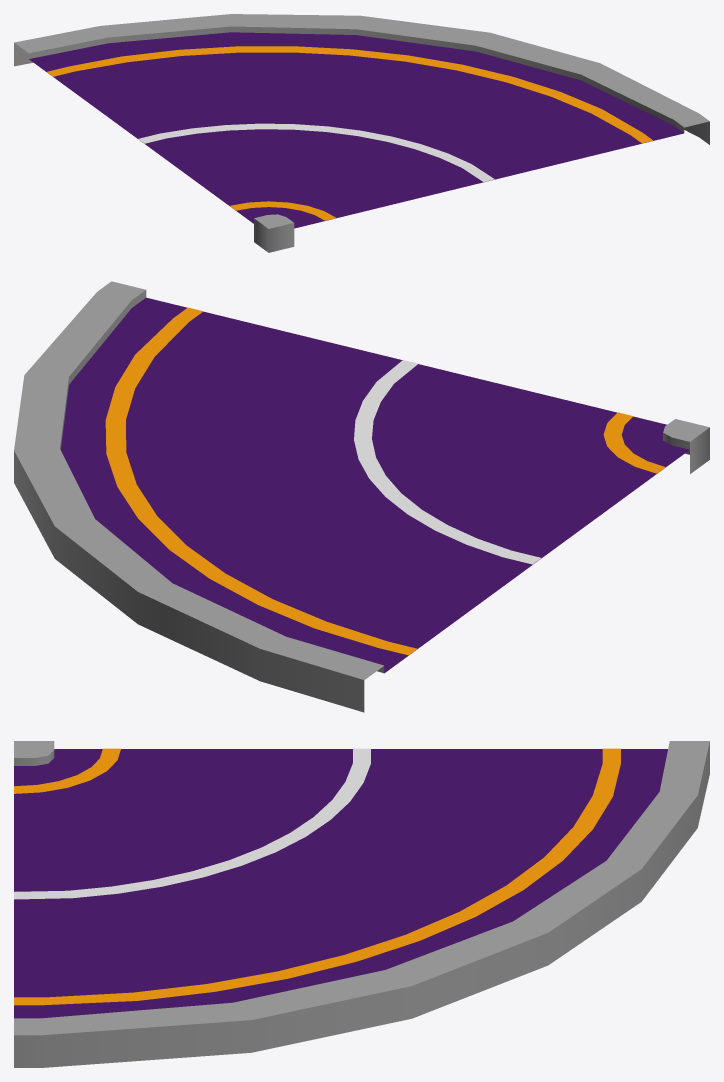
The model's file is Road_C_8.fbx.
3 renders of one model, top to bottom at view 1: azimuth 30°, elevation 25°; view 2: azimuth 150°, elevation 25°; view 3: azimuth 270°, elevation 25°, orthographic. The views are drawn at different scales.
Parts seen in each view (by area): view 1: Road_C_8; view 2: Road_C_8; view 3: Road_C_8.
Boxes of the visible parts, x1=… form: Road_C_8: x1=14, y1=14, x2=709, y2=252; Road_C_8: x1=14, y1=281, x2=709, y2=712; Road_C_8: x1=14, y1=741, x2=709, y2=1067.
Size of the model in its own units: 800 by 41.48 by 800.
